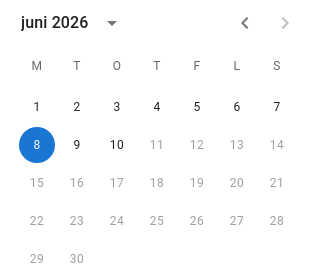
Scenario: HabitCalendar › shows a 'Gjort' tooltip for a checked-in day
Hover over the cell "8": (37, 145) left=19, top=127, right=55, bottom=163
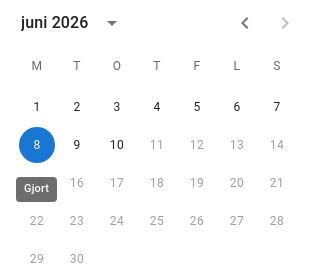
Expected: the tooltip reads "Gjort", left=24, top=182, right=49, bottom=195
